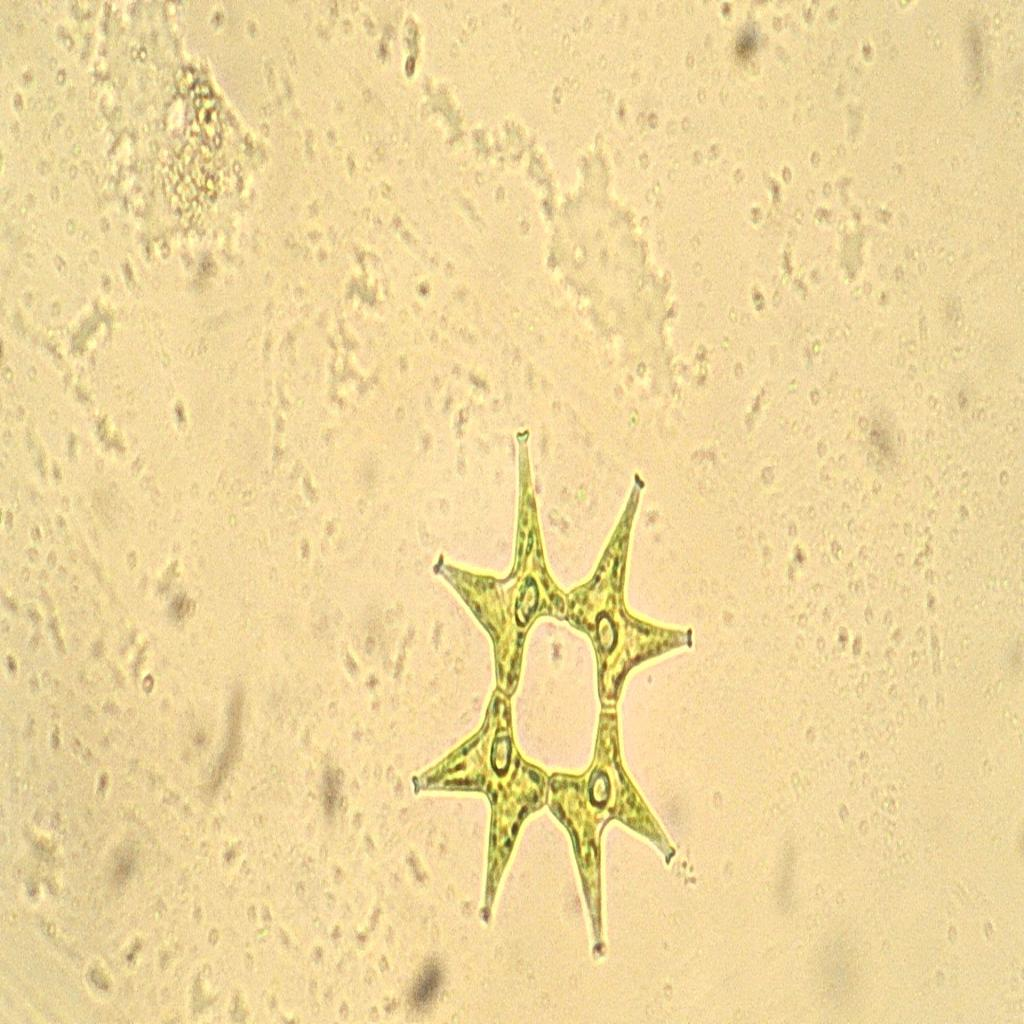Pediastrum_CO: (406, 424, 701, 964)
